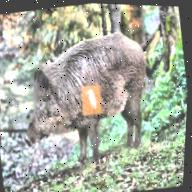boar: (5, 18, 163, 169)
